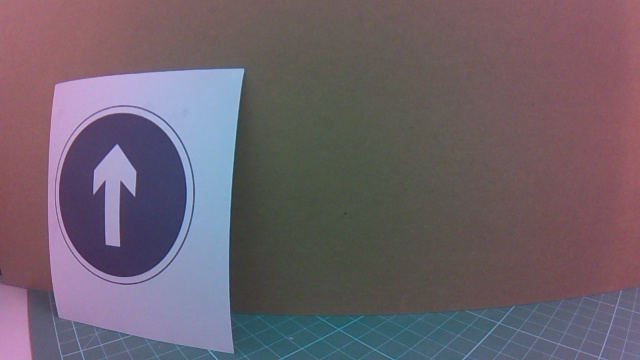forward: (53, 93, 236, 299)
